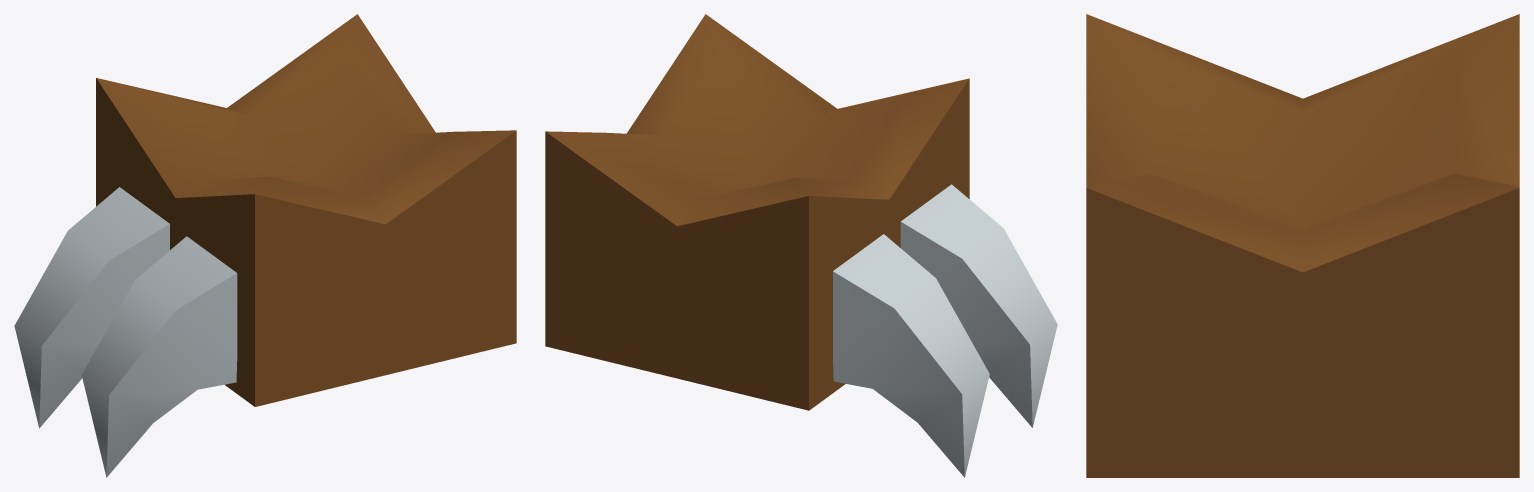
The model's file is Bracer 05.FBX.
The picture shows the model from 3 angles, left to right: view 1: azimuth 30°, elevation 25°; view 2: azimuth 150°, elevation 25°; view 3: azimuth 270°, elevation 25°; orthographic projection. The views are drawn at different scales.
Visible parts, largest first — view 1: Bracer 05; view 2: Bracer 05; view 3: Bracer 05.
Boxes of the visible parts, left/top/right/bottom form: Bracer 05: left=14, top=14, right=516, bottom=477; Bracer 05: left=545, top=14, right=1057, bottom=477; Bracer 05: left=1086, top=14, right=1519, bottom=477.
Bounding box in the file's own units: 24.97 × 18.26 × 18.17.
Materials: 1 (1 with a texture image).
